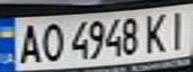4: (66, 18, 90, 61), (103, 15, 124, 57)
8: (121, 14, 145, 56)
9: (84, 17, 106, 60)
A: (12, 20, 45, 65)
I: (163, 7, 193, 52)
K: (139, 10, 172, 54)
O: (36, 20, 66, 63)
